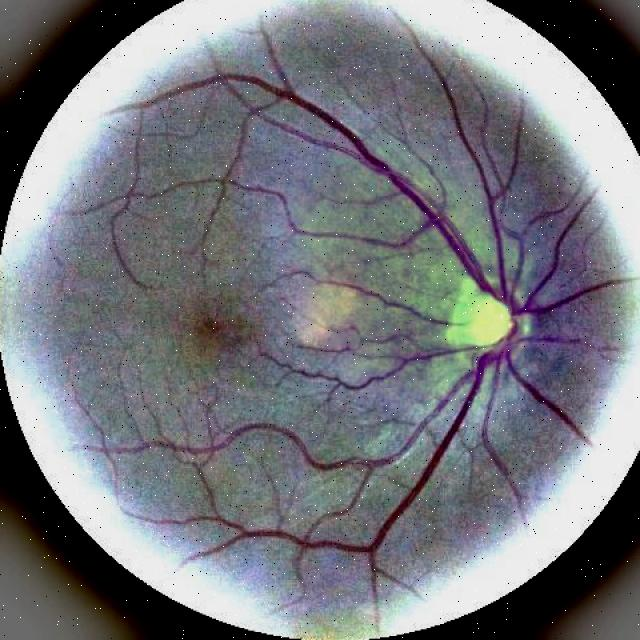Optic Disk: (444, 275, 511, 348)
